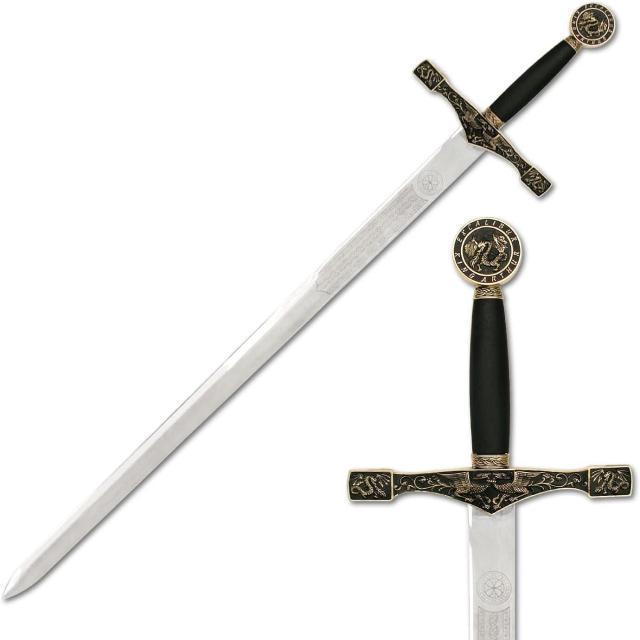sword: (2, 2, 625, 623), (323, 209, 639, 628)
